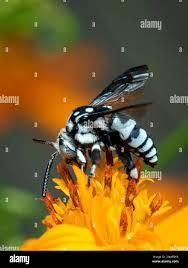Thyreus: (30, 61, 161, 215)
